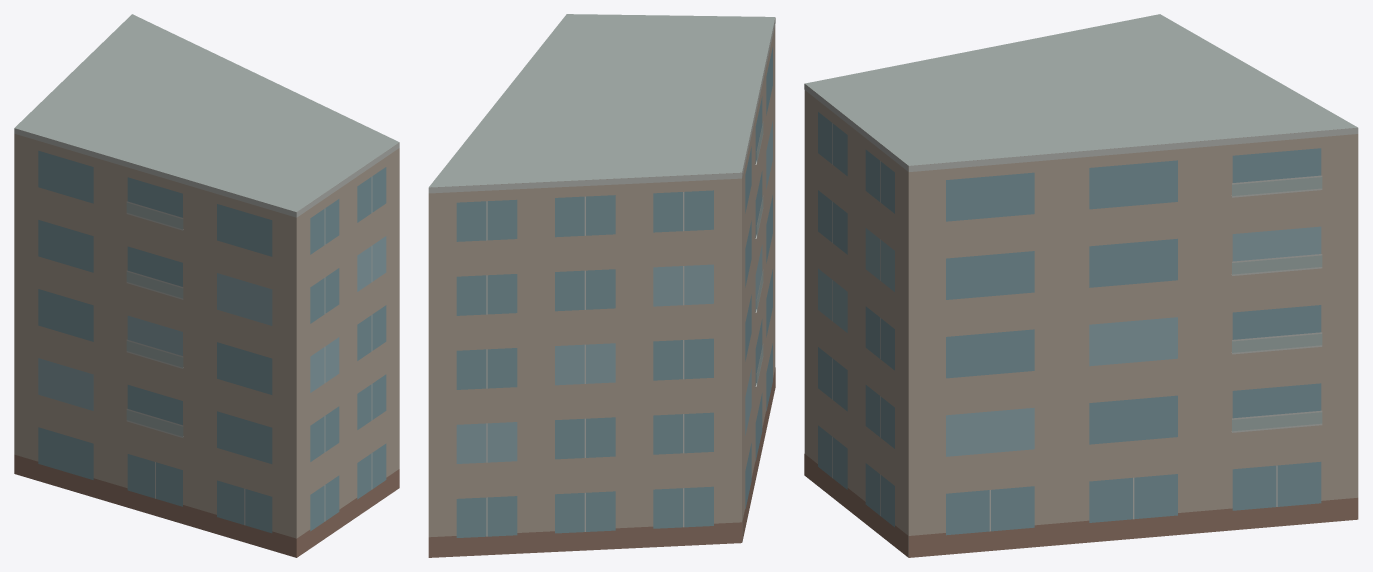
Rendered from residential-89a6dfa9-1fd1-4eb6-8696-fe241b6c4992.glb.
3 views of the same model, side by side, from view 1: azimuth 30°, elevation 25°; view 2: azimuth 150°, elevation 25°; view 3: azimuth 270°, elevation 25° (orthographic). The views are drawn at different scales.
Visible parts, largest first — view 1: residential-89a6dfa9-1fd1-4eb6-8696-fe241b6c4992.tmp; view 2: residential-89a6dfa9-1fd1-4eb6-8696-fe241b6c4992.tmp; view 3: residential-89a6dfa9-1fd1-4eb6-8696-fe241b6c4992.tmp.
Part boxes in pixels (bbox=[...]): residential-89a6dfa9-1fd1-4eb6-8696-fe241b6c4992.tmp: bbox=[14, 14, 399, 557]; residential-89a6dfa9-1fd1-4eb6-8696-fe241b6c4992.tmp: bbox=[428, 14, 775, 557]; residential-89a6dfa9-1fd1-4eb6-8696-fe241b6c4992.tmp: bbox=[804, 14, 1358, 557].
Bounding box in the file's own units: 12.69 × 15.25 × 19.54.
